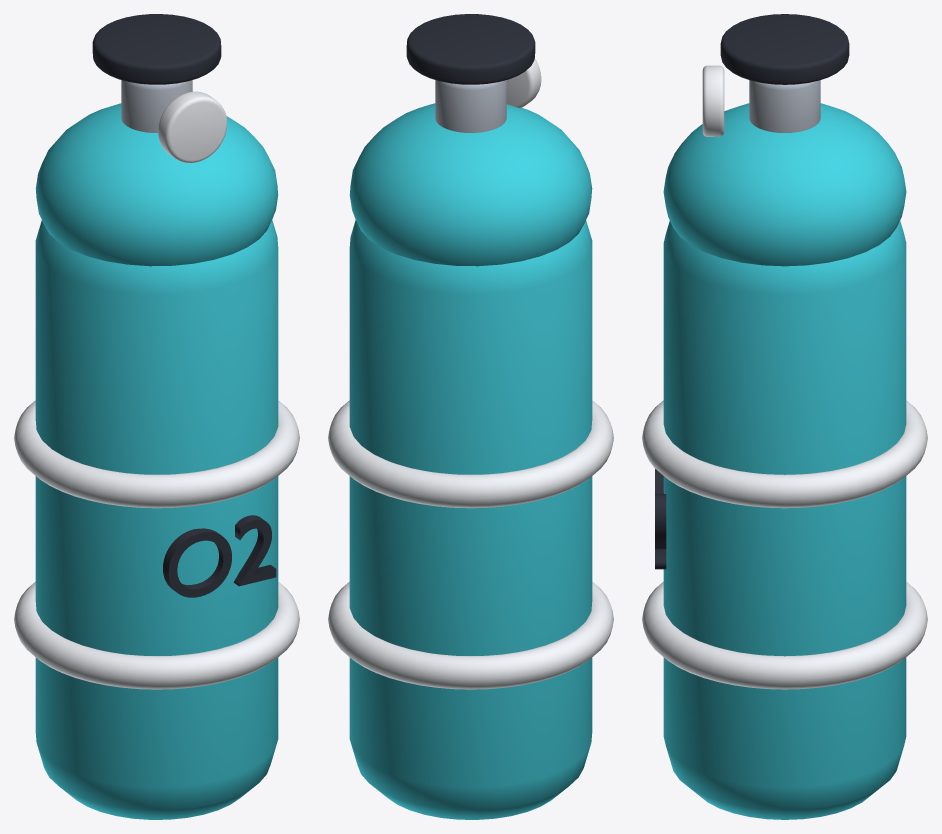
File: Item_Oxygen.glb
3 renders of one model, left to right at view 1: azimuth 30°, elevation 25°; view 2: azimuth 150°, elevation 25°; view 3: azimuth 270°, elevation 25°, orthographic.
Visible parts, largest first — view 1: Item_Oxygen.Body, Item_Oxygen.Dome, Item_Oxygen.Band2, Item_Oxygen.Band, Item_Oxygen.ValveWheel, Item_Oxygen.Label, Item_Oxygen.Gauge, Item_Oxygen.Neck; view 2: Item_Oxygen.Body, Item_Oxygen.Dome, Item_Oxygen.Band2, Item_Oxygen.Band, Item_Oxygen.ValveWheel, Item_Oxygen.Neck, Item_Oxygen.Gauge; view 3: Item_Oxygen.Body, Item_Oxygen.Dome, Item_Oxygen.Band2, Item_Oxygen.Band, Item_Oxygen.ValveWheel, Item_Oxygen.Neck, Item_Oxygen.Gauge, Item_Oxygen.Label.
Part boxes in pixels (bbox=[...]): Item_Oxygen.Body: bbox=[35, 220, 278, 819]; Item_Oxygen.Dome: bbox=[35, 103, 278, 266]; Item_Oxygen.Band2: bbox=[14, 582, 299, 689]; Item_Oxygen.Band: bbox=[14, 400, 299, 508]; Item_Oxygen.ValveWheel: bbox=[92, 14, 221, 84]; Item_Oxygen.Label: bbox=[163, 515, 276, 597]; Item_Oxygen.Gauge: bbox=[158, 91, 227, 163]; Item_Oxygen.Neck: bbox=[121, 80, 192, 132]; Item_Oxygen.Body: bbox=[349, 220, 592, 819]; Item_Oxygen.Dome: bbox=[349, 103, 592, 266]; Item_Oxygen.Band2: bbox=[328, 582, 613, 689]; Item_Oxygen.Band: bbox=[328, 400, 613, 508]; Item_Oxygen.ValveWheel: bbox=[406, 14, 535, 84]; Item_Oxygen.Neck: bbox=[435, 80, 506, 132]; Item_Oxygen.Gauge: bbox=[506, 58, 541, 108]; Item_Oxygen.Body: bbox=[663, 220, 906, 819]; Item_Oxygen.Dome: bbox=[663, 103, 906, 266]; Item_Oxygen.Band2: bbox=[642, 582, 927, 689]; Item_Oxygen.Band: bbox=[642, 400, 927, 508]; Item_Oxygen.ValveWheel: bbox=[720, 14, 849, 84]; Item_Oxygen.Neck: bbox=[749, 80, 820, 132]; Item_Oxygen.Gauge: bbox=[702, 65, 724, 136]; Item_Oxygen.Label: bbox=[655, 469, 666, 569].
Size of the model in its own units: 0.2 by 0.5775 by 0.2.
